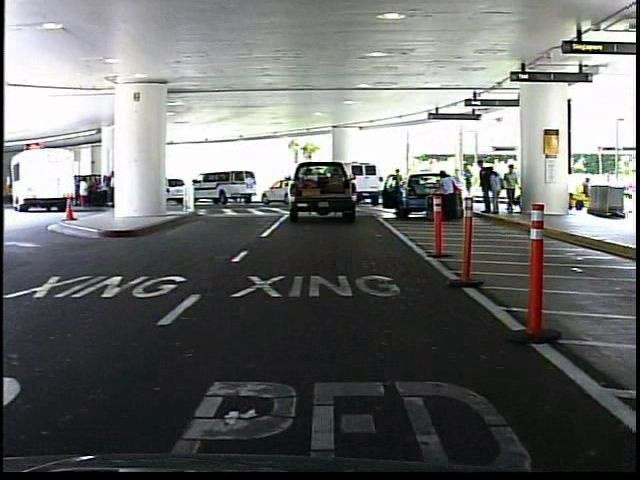person: (436, 163, 458, 223), (502, 159, 523, 217), (390, 165, 406, 205)
